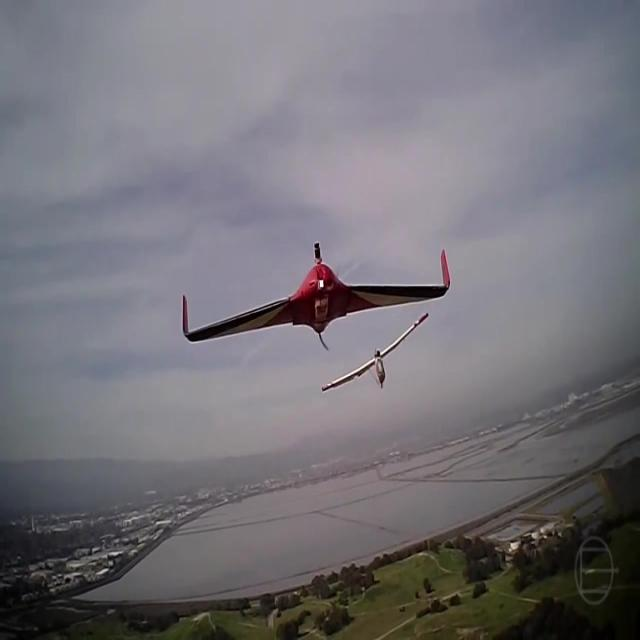iha: (180, 271, 452, 321), (352, 343, 399, 361)
